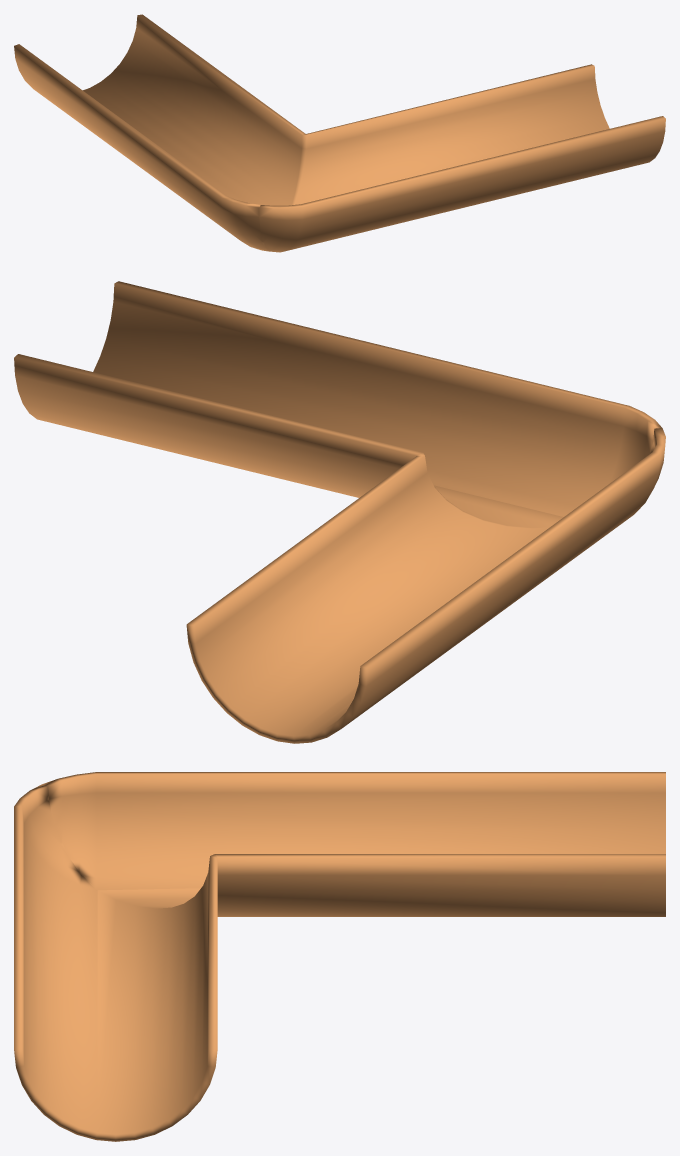
File: WAY L.fbx
3 renders of one model, top to bottom at view 1: azimuth 30°, elevation 25°; view 2: azimuth 150°, elevation 25°; view 3: azimuth 270°, elevation 25°, orthographic. The views are drawn at different scales.
Parts seen in each view (by area): view 1: Sphere.005; view 2: Sphere.005; view 3: Sphere.005.
Part boxes in pixels (x1,y1,x2,y2): Sphere.005: [14, 14, 665, 252]; Sphere.005: [14, 281, 665, 743]; Sphere.005: [14, 772, 665, 1141].
Bounding box in the file's own units: 3043 × 477 × 3022.
